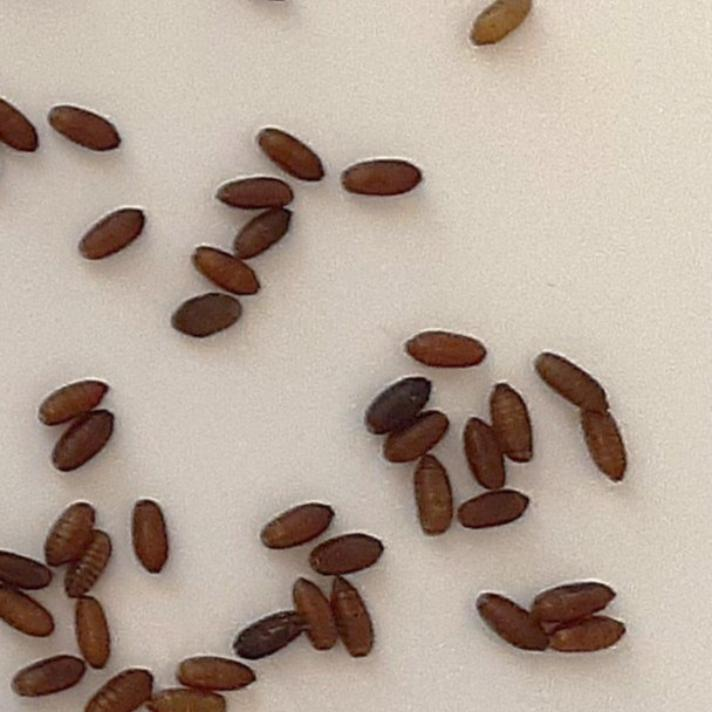pupae: (532, 347, 616, 417), (72, 203, 154, 269), (45, 94, 123, 160), (362, 372, 436, 440), (473, 590, 547, 658), (528, 574, 620, 628), (256, 498, 340, 556), (578, 404, 634, 490), (188, 238, 260, 304), (49, 409, 123, 473), (40, 496, 102, 572), (486, 378, 536, 468), (254, 124, 324, 188), (456, 486, 540, 538), (336, 155, 428, 202), (379, 408, 451, 468), (34, 375, 113, 429), (460, 413, 510, 497), (234, 606, 306, 664), (413, 453, 458, 545), (124, 493, 172, 579), (463, 0, 542, 52), (7, 652, 88, 702), (331, 574, 375, 666), (83, 660, 159, 712), (60, 530, 116, 600), (288, 574, 338, 652), (231, 205, 297, 263), (166, 292, 242, 342), (310, 532, 390, 578), (0, 582, 58, 642), (406, 326, 484, 369), (548, 618, 630, 658), (173, 656, 264, 692), (74, 595, 113, 675), (212, 176, 292, 214), (0, 95, 38, 161), (4, 546, 54, 592), (148, 690, 232, 712)
